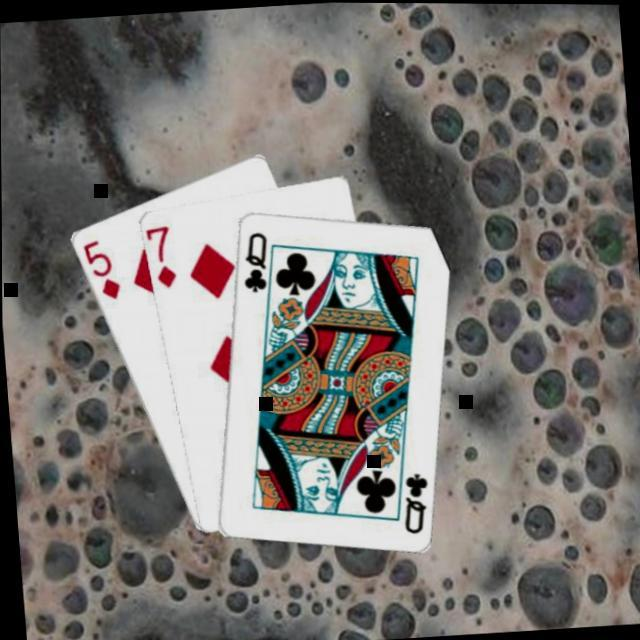5D: (79, 232, 124, 301)
7D: (146, 218, 180, 288)
QC: (396, 466, 434, 534), (237, 225, 274, 293)
